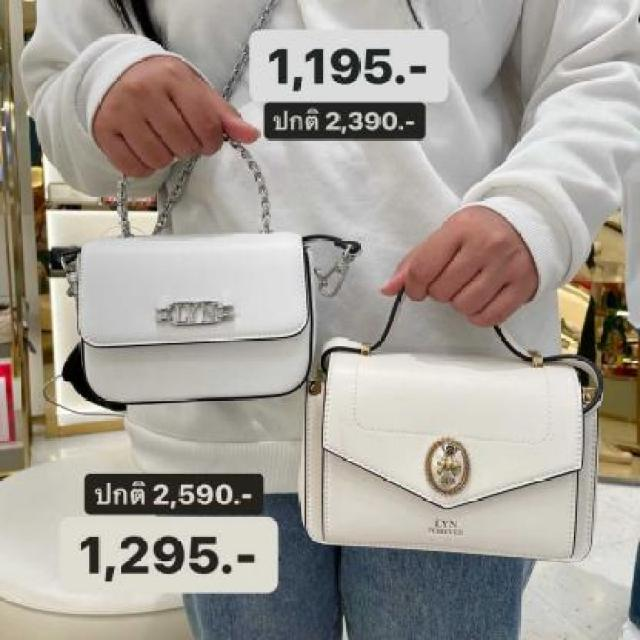Bag: (288, 316, 612, 578), (61, 129, 334, 420)
